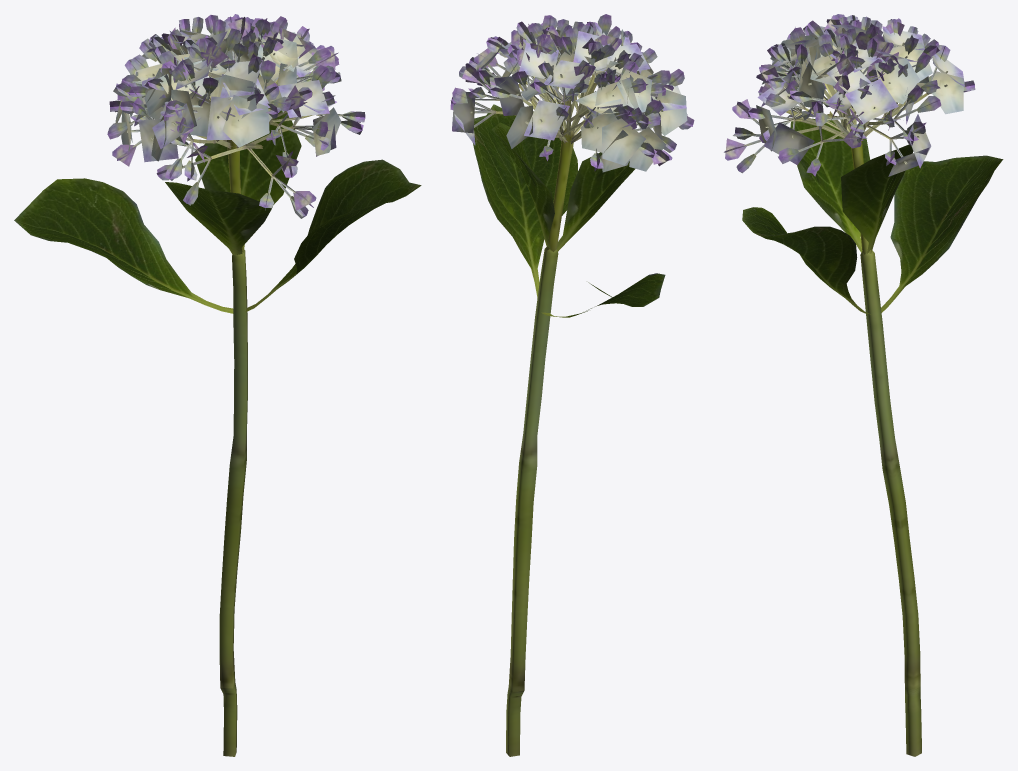
Rendered from Hydrangea_baby_short_magenta.glb.
3 views of the same model, side by side, from view 1: azimuth 30°, elevation 25°; view 2: azimuth 150°, elevation 25°; view 3: azimuth 270°, elevation 25° (orthographic). The views are drawn at different scales.
Parts seen in each view (by area): view 1: BABY; view 2: BABY; view 3: BABY.
Boxes of the visible parts, box(x1,y1,x2,y2) form: BABY: box(14, 14, 421, 756); BABY: box(450, 14, 694, 756); BABY: box(724, 14, 1003, 756).
Bounding box in the file's own units: 0.7928 × 2.03 × 0.7195.
Materials: 1 (1 with a texture image).
